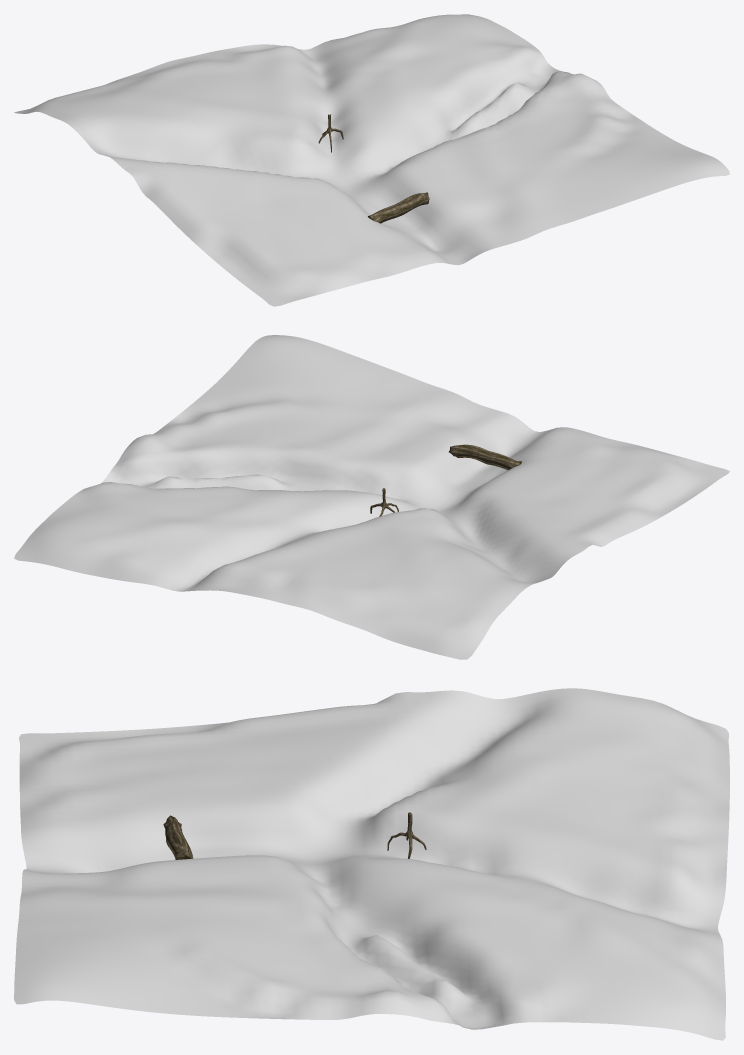
File: terrain_y_junction_double.glb
3 renders of one model, top to bottom at view 1: azimuth 30°, elevation 25°; view 2: azimuth 150°, elevation 25°; view 3: azimuth 270°, elevation 25°, orthographic. The views are drawn at different scales.
Parts seen in each view (by area): view 1: Terrain, Tree2; view 2: Terrain, Tree2; view 3: Terrain, Tree2.
Boxes of the visible parts, left/top/right/bottom form: Terrain: left=14, top=14, right=729, bottom=306; Tree2: left=368, top=192, right=429, bottom=223; Terrain: left=14, top=335, right=729, bottom=659; Tree2: left=449, top=444, right=521, bottom=470; Terrain: left=14, top=688, right=729, bottom=1040; Tree2: left=163, top=815, right=193, bottom=859.
Size of what is drawn, in the model's own units: 32.37 by 3.46 by 32.23.
Materials: 1 (1 with a texture image).
